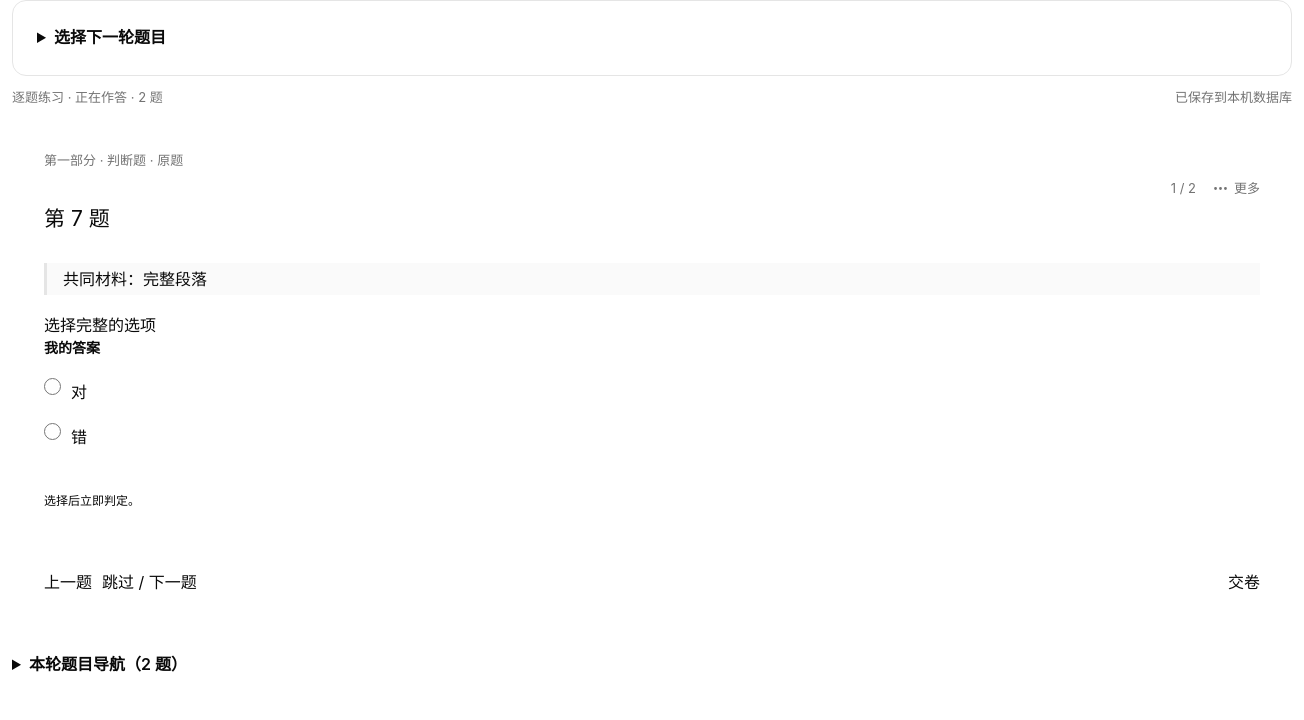
it: grades judge immediately after a selection and removes the per-question submit action
Click the radio button labelled "对" at (52, 387), box top-left (44, 378), bottom-right (61, 396)
Wait 400 ms
(page scrolled)
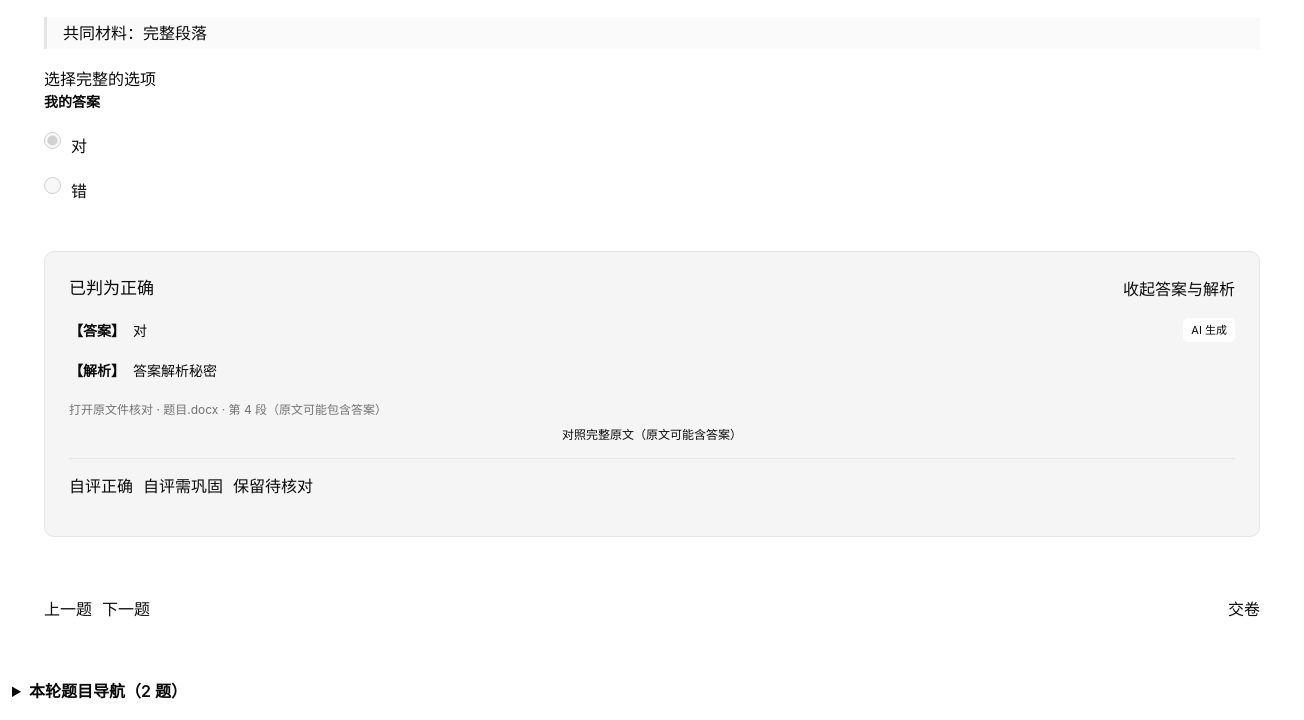
Result: the element that starts with "已判为正确" is shown at top-left (69, 278), bottom-right (154, 298)
